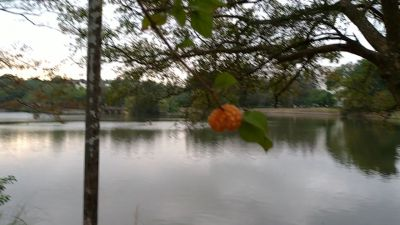eggs: (207, 102, 242, 132)
